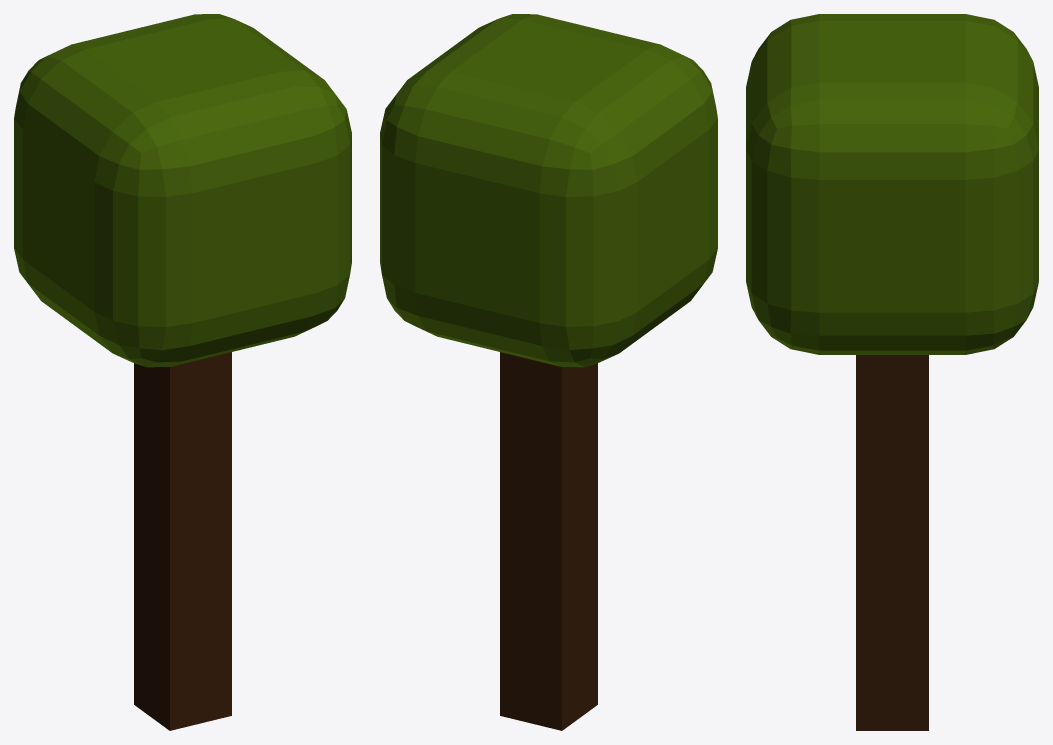
File: obj_tree2.fbx
The picture shows the model from 3 angles, left to right: view 1: azimuth 30°, elevation 25°; view 2: azimuth 150°, elevation 25°; view 3: azimuth 270°, elevation 25°; orthographic projection. The views are drawn at different scales.
Visible parts, largest first — view 1: Obj_tree2; view 2: Obj_tree2; view 3: Obj_tree2.
Boxes of the visible parts, x1,y1,x2,y2 form: Obj_tree2: (14, 14, 351, 730); Obj_tree2: (380, 14, 717, 730); Obj_tree2: (746, 14, 1038, 730).
Bounding box in the file's own units: 400 × 1000 × 400.
